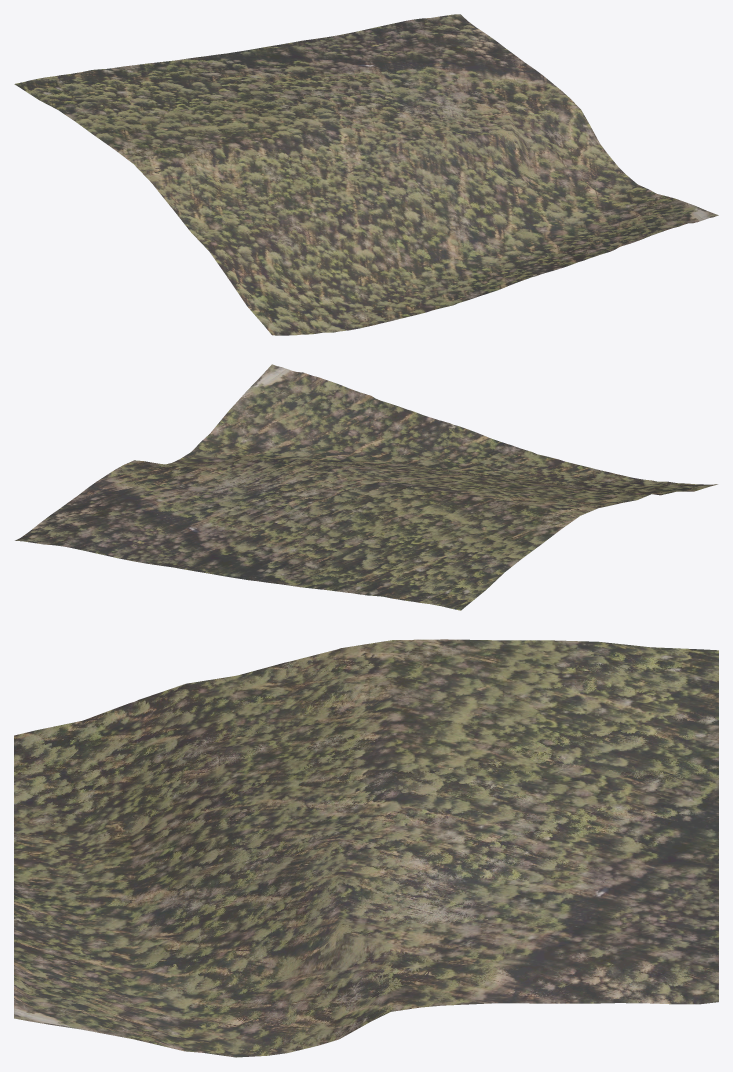
File: CM_Terrain_24491482_6816722.fbx
3 renders of one model, top to bottom at view 1: azimuth 30°, elevation 25°; view 2: azimuth 150°, elevation 25°; view 3: azimuth 270°, elevation 25°, orthographic. The views are drawn at different scales.
Visible parts, largest first — view 1: CM_Terrain_24491482_6816722_LOD0; view 2: CM_Terrain_24491482_6816722_LOD0; view 3: CM_Terrain_24491482_6816722_LOD0.
Boxes of the visible parts, bbox=[...] form: CM_Terrain_24491482_6816722_LOD0: bbox=[14, 14, 718, 335]; CM_Terrain_24491482_6816722_LOD0: bbox=[15, 364, 717, 610]; CM_Terrain_24491482_6816722_LOD0: bbox=[14, 639, 718, 1057].
Size of what is drawn, in the model's own units: 205 by 38.55 by 205.
